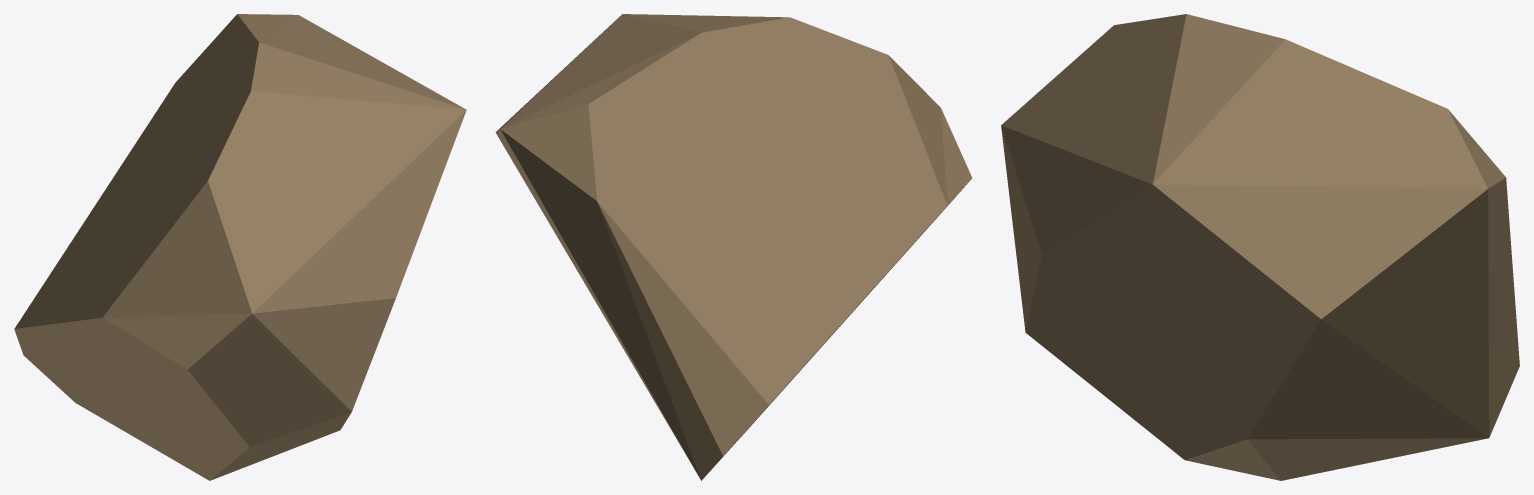
File: Rock12.fbx
3 views of the same model, side by side, from view 1: azimuth 30°, elevation 25°; view 2: azimuth 150°, elevation 25°; view 3: azimuth 270°, elevation 25° (orthographic). The views are drawn at different scales.
Parts seen in each view (by area): view 1: Rock12; view 2: Rock12; view 3: Rock12.
Boxes of the visible parts, x1,y1,x2,y2 form: Rock12: [14, 14, 466, 480]; Rock12: [495, 14, 972, 480]; Rock12: [1001, 14, 1519, 480].
Bounding box in the file's own units: 10.37 × 9.88 × 9.9.
